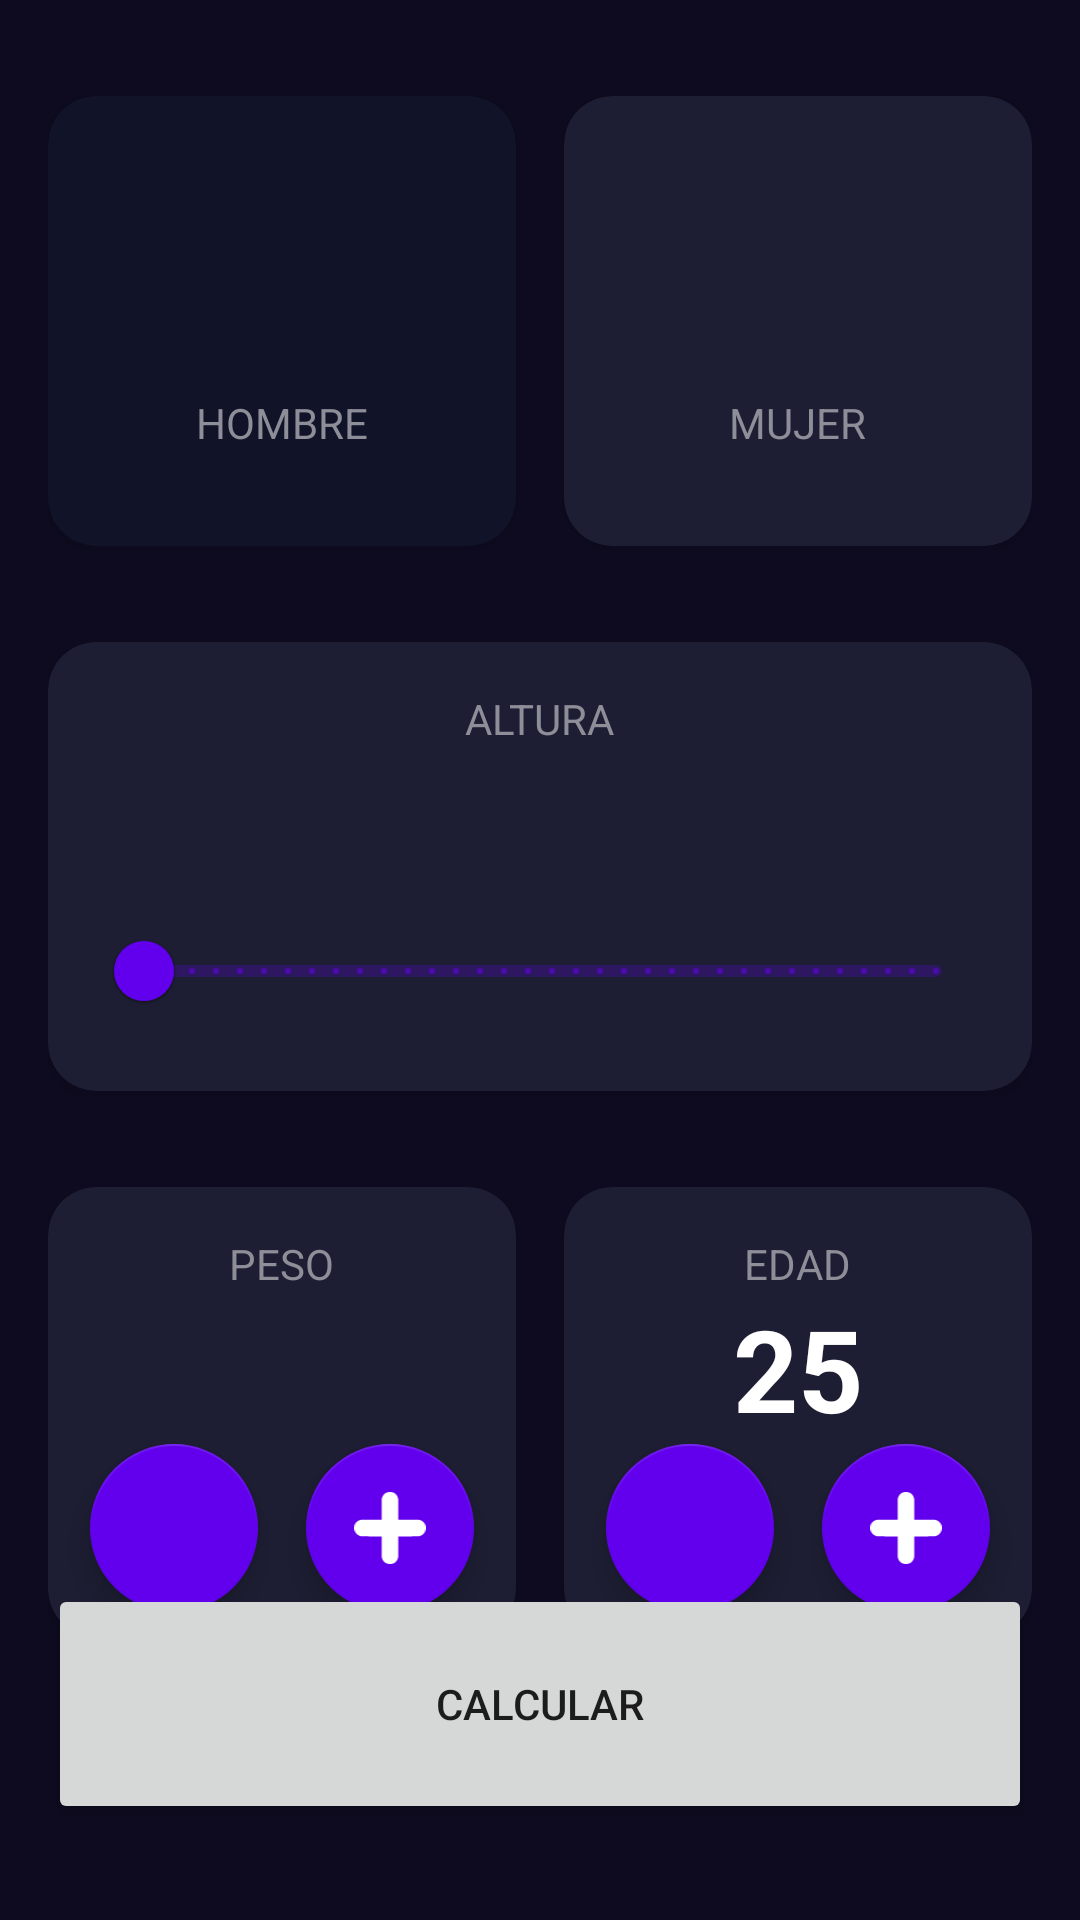

Where to tap for icons on this 1080 x 1920 app screen, as (x=x, y=y):
plus: (x=390, y=1528), (x=906, y=1528)
